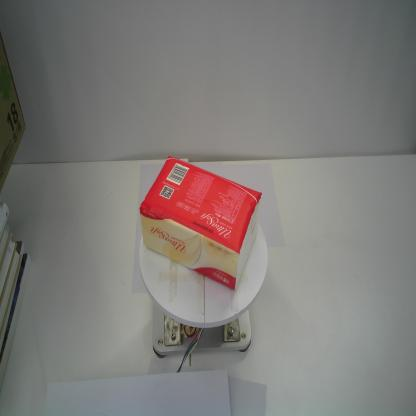Tissue: (138, 153, 262, 294)
